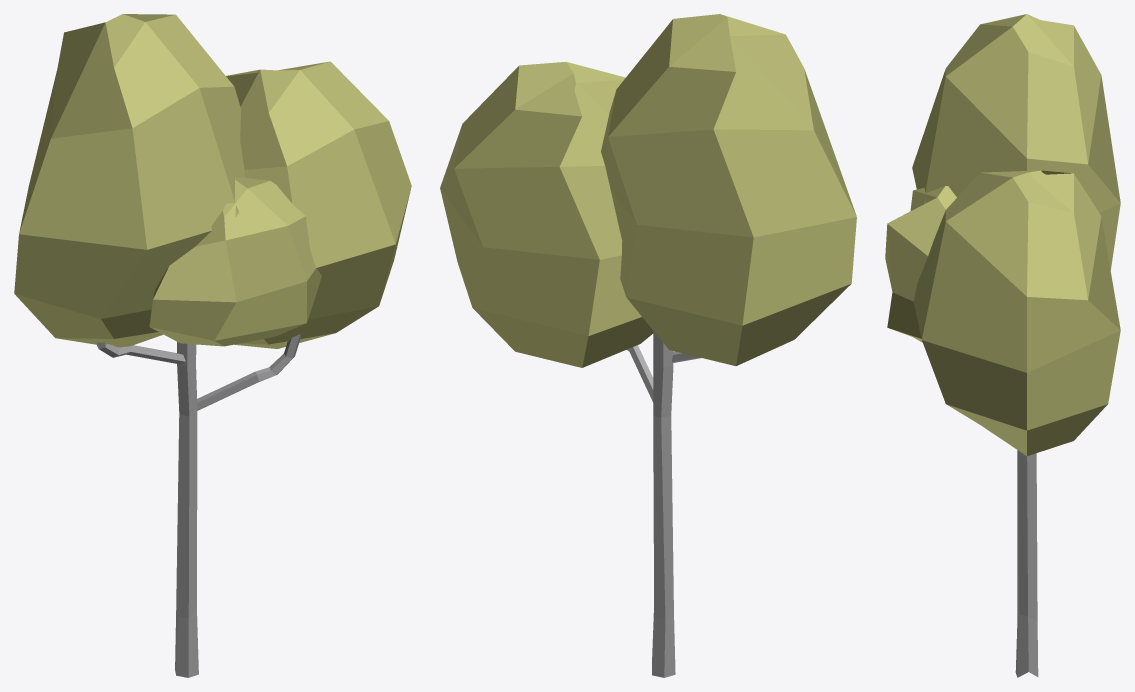
File: tree_03.fbx
3 views of the same model, side by side, from view 1: azimuth 30°, elevation 25°; view 2: azimuth 150°, elevation 25°; view 3: azimuth 270°, elevation 25° (orthographic). The views are drawn at different scales.
Visible parts, largest first — view 1: tree; view 2: tree; view 3: tree.
Boxes of the visible parts, box(x1,y1,x2,y2) form: tree: box(14, 14, 411, 677); tree: box(440, 14, 856, 677); tree: box(885, 14, 1120, 677).
Size of the model in its own units: 5.04 by 7.99 by 2.7.
